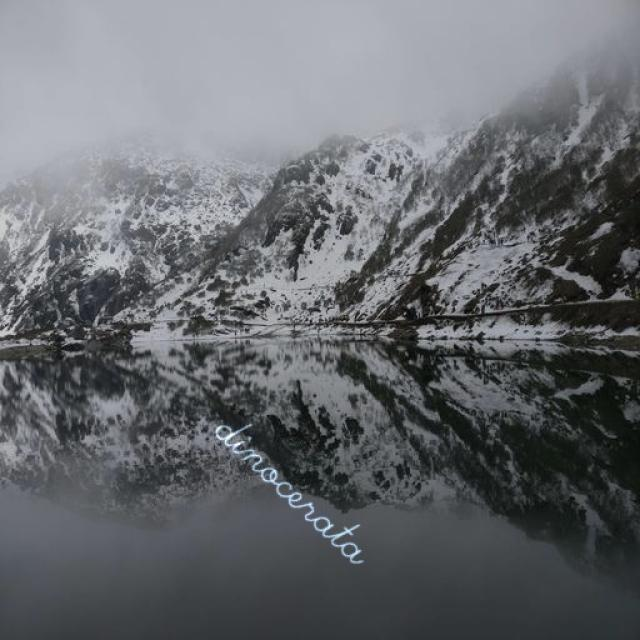watermark: (203, 398, 389, 576)
